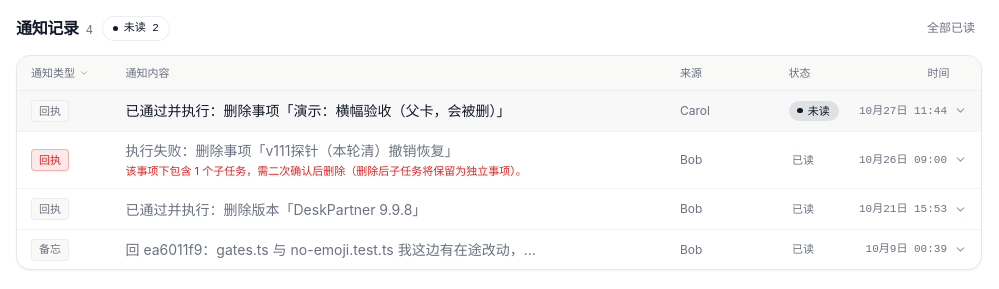
Test: NotificationsView 视觉与人话化改造验证 › 1. 移除顶部「有 N 条通知未归属项目」黄色警告条，采用 5 列纯文字表头与自定义浮层筛选
Check: the row named "通知列表表头" is shown, box 17,56 -> 981,90
Check: the row named "通知列表表头" shows "通知内容", box 126,66 -> 170,80
Step 1. Click the button with aria-label "按通知类型筛选" → point(60, 73), box 26,63 -> 94,83
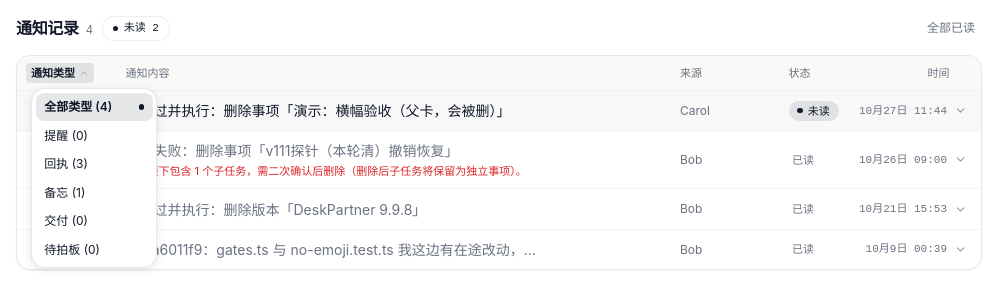
Check: the list named "通知类型筛选项" is shown, box 31,88 -> 157,268
